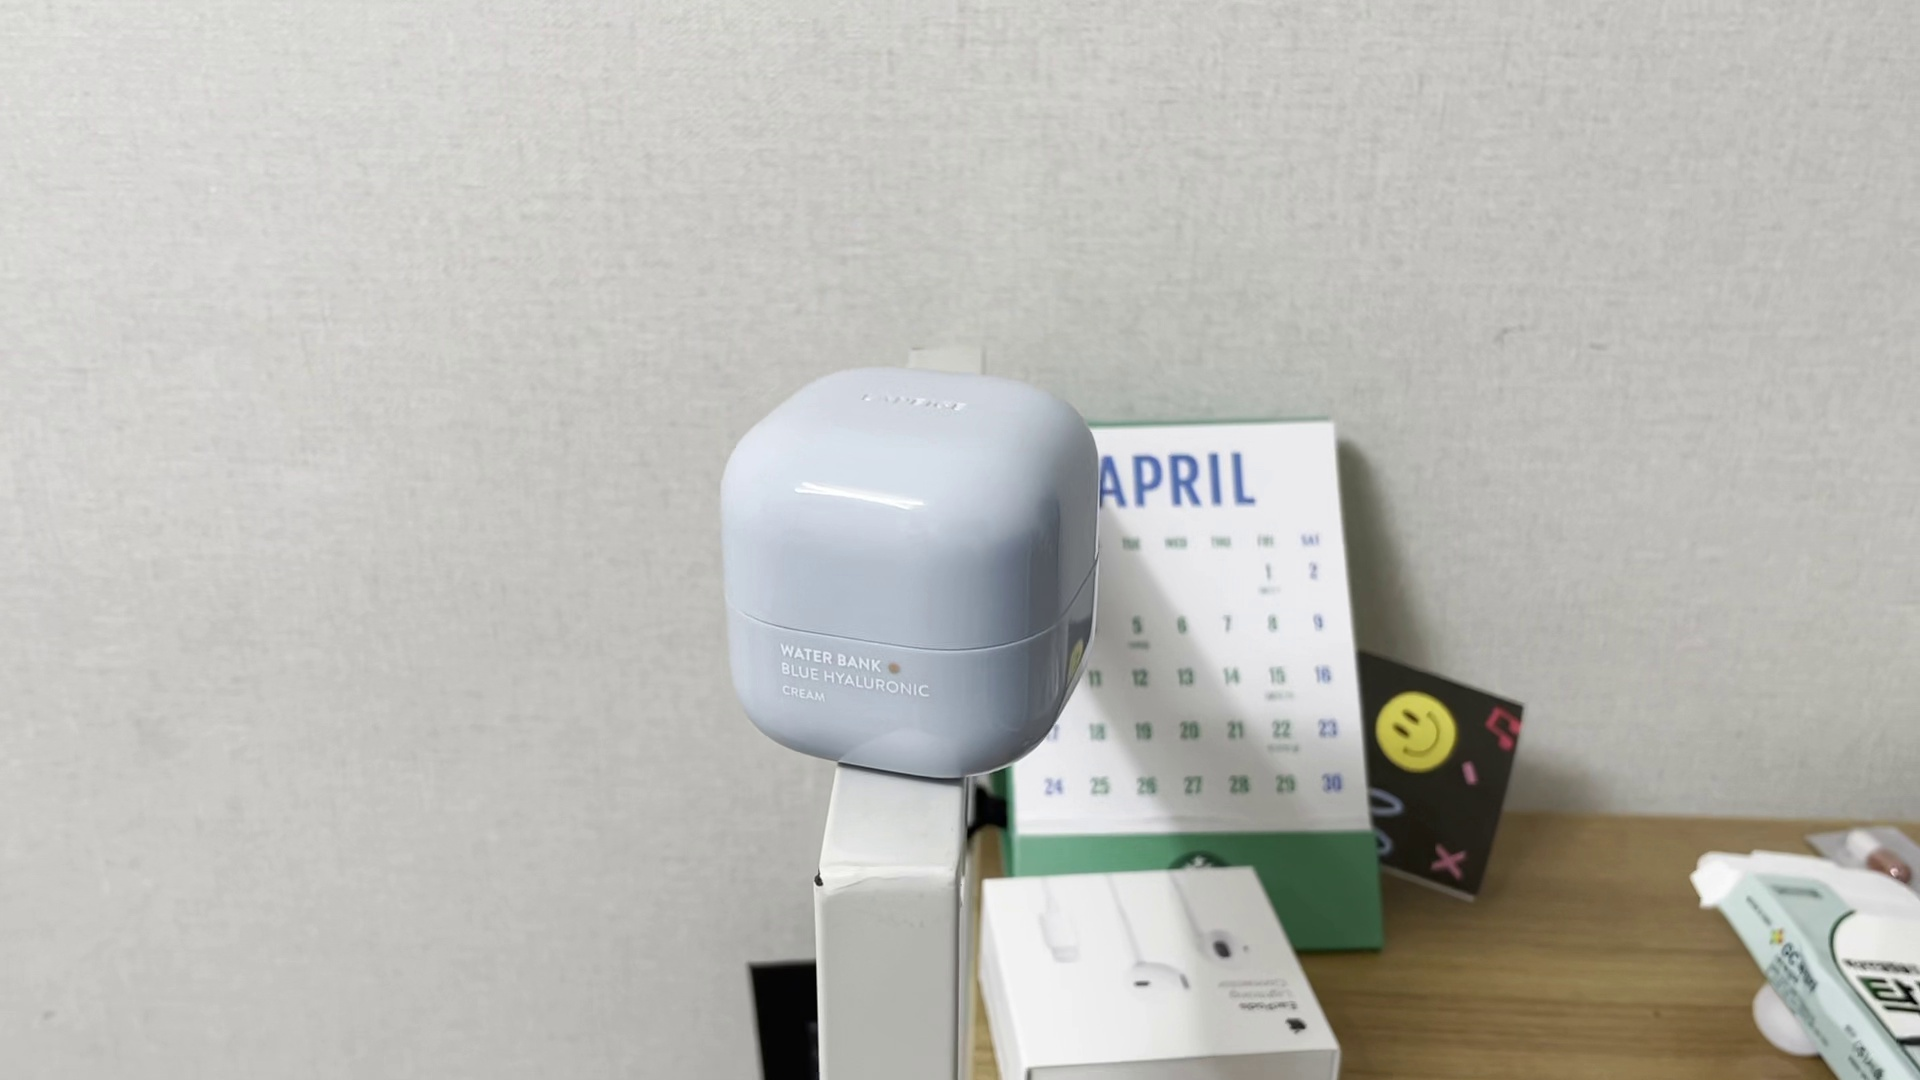cream: (712, 364, 1102, 778)
